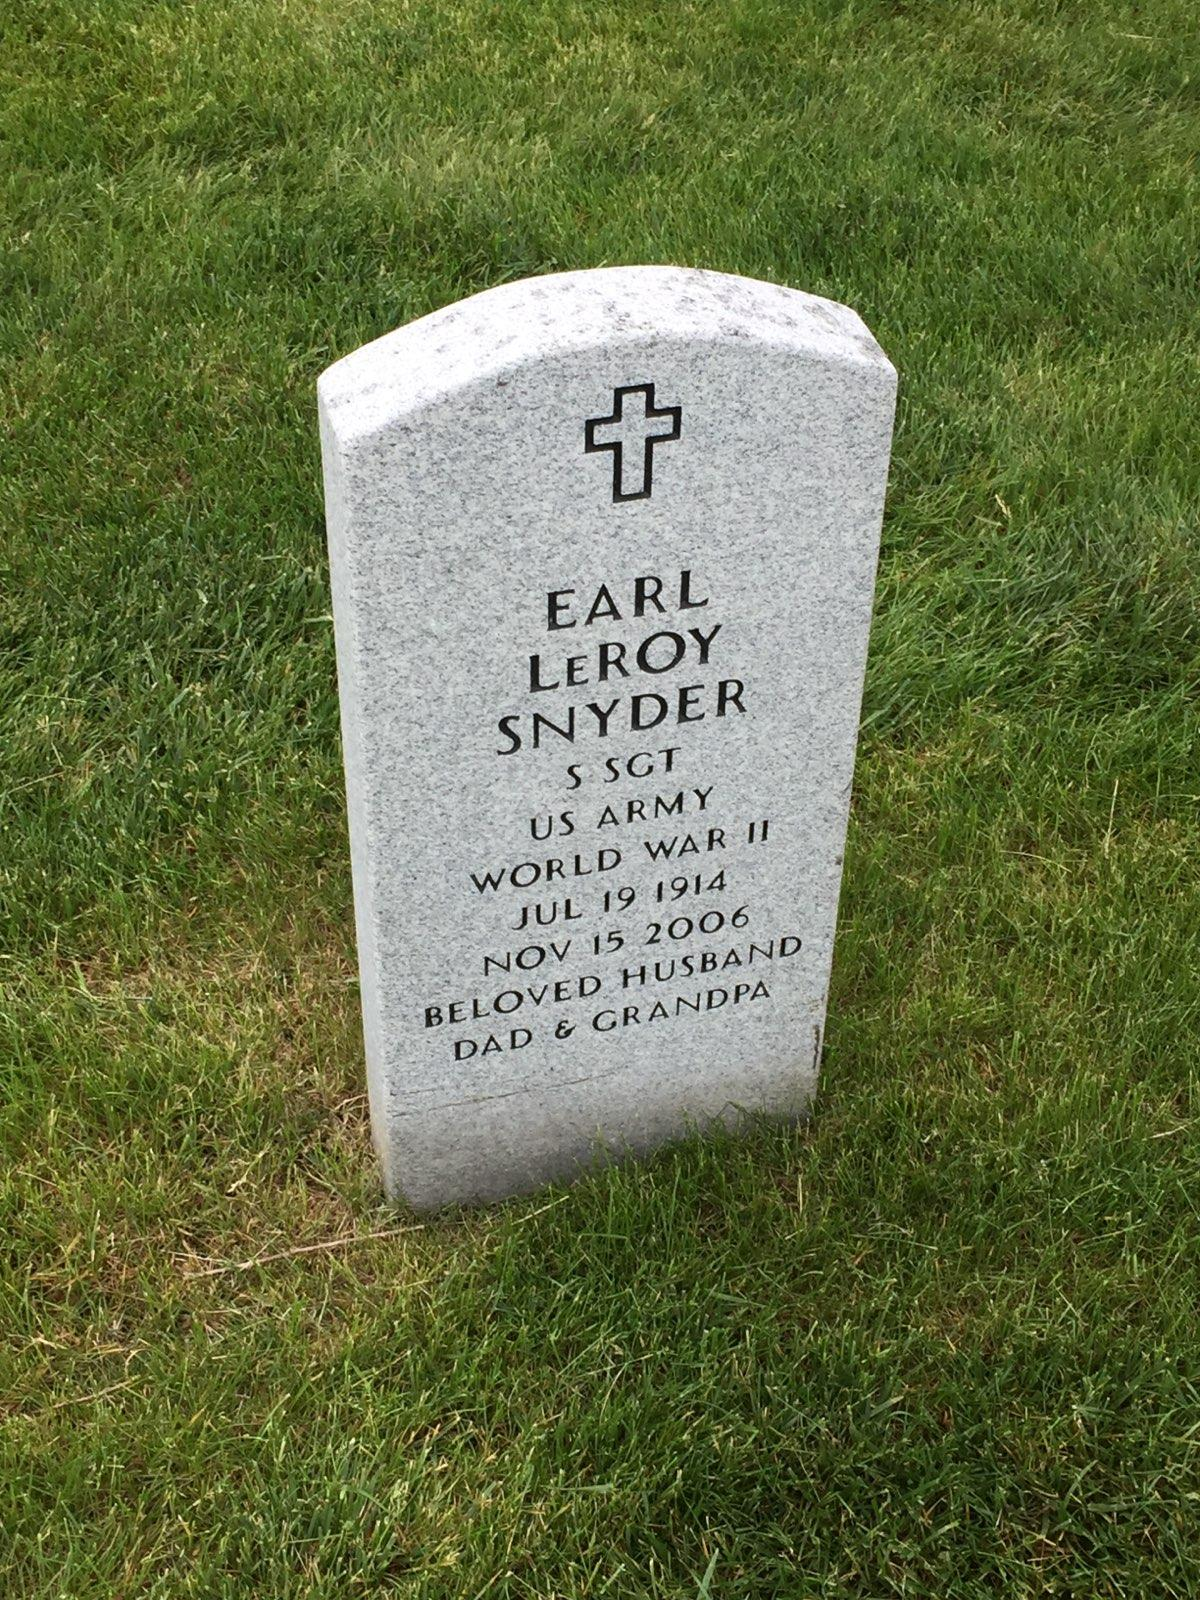military: (274, 212, 945, 1225)
